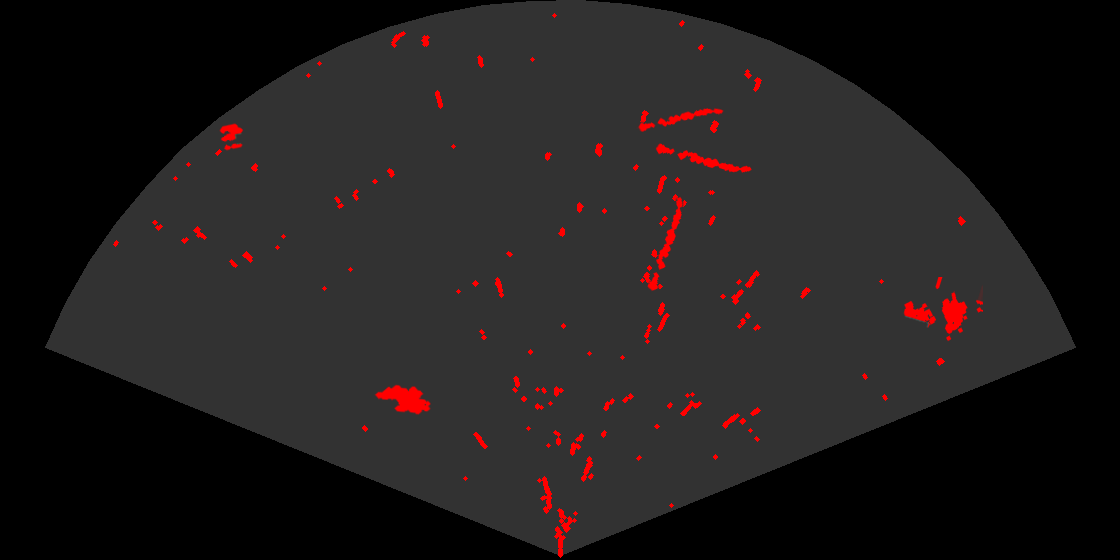AUV: (373, 383, 432, 416)
ball: (218, 122, 245, 152)
cage: (902, 277, 983, 343)
chain: (646, 196, 684, 293), (653, 142, 753, 174), (635, 106, 725, 133)
